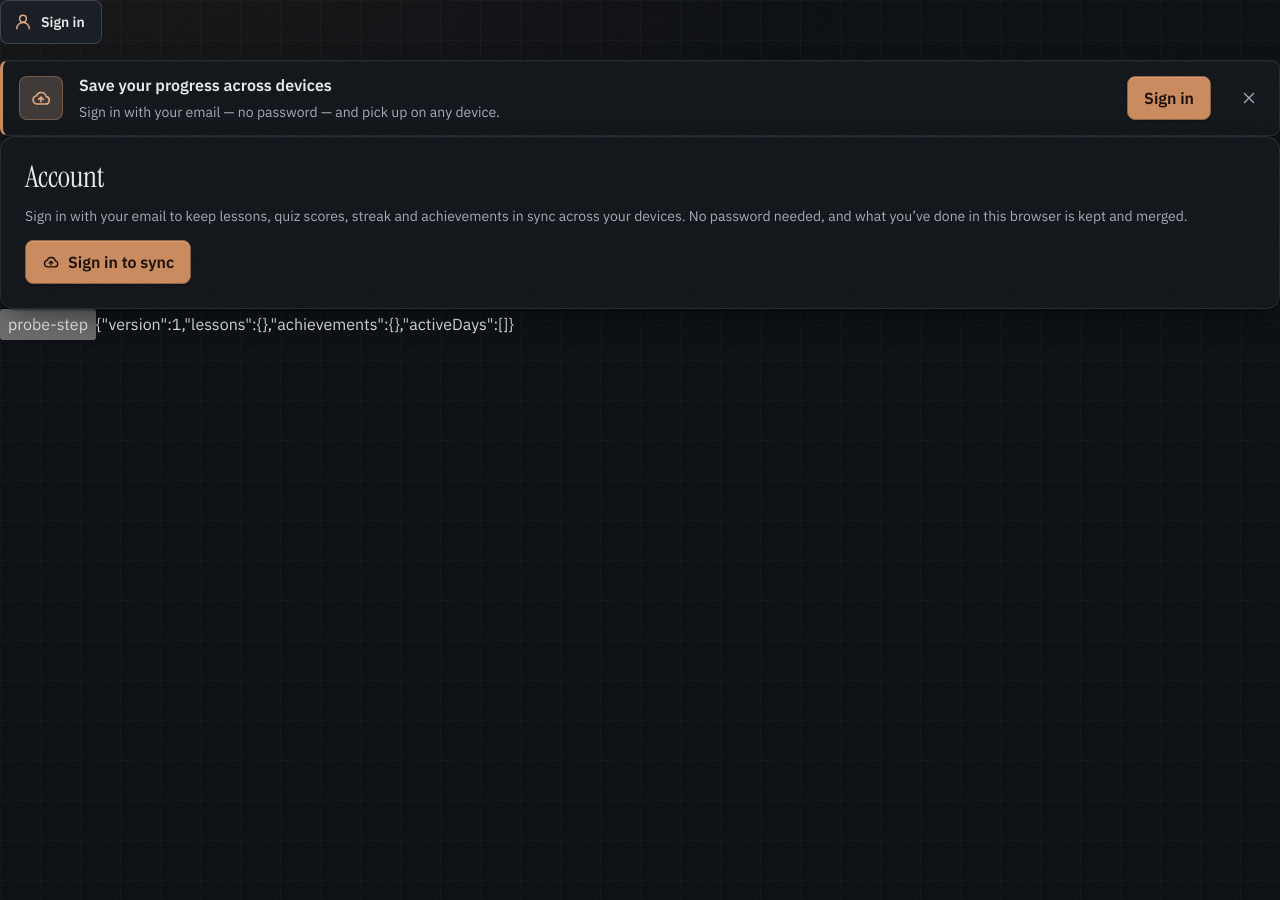
it: accounts › explains a failed send kindly ({"status":429,"code":"over_email_send_rate_limit","message":"rate"})
Click the 1st button "Sign in": (51, 22) [0, 0, 102, 44]
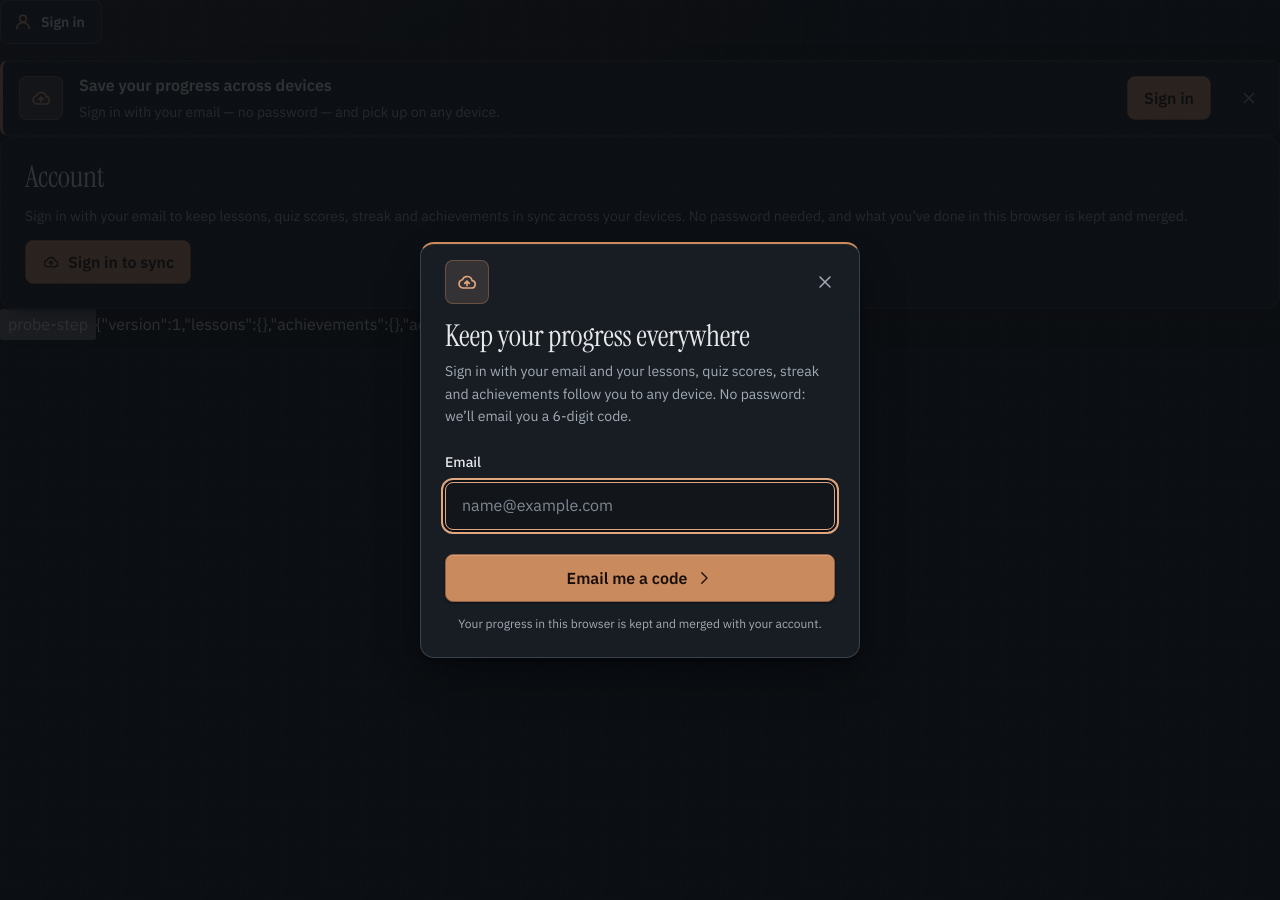
In the field labelled "Email": (640, 506) [445, 482, 835, 530], type "ada@example.com"
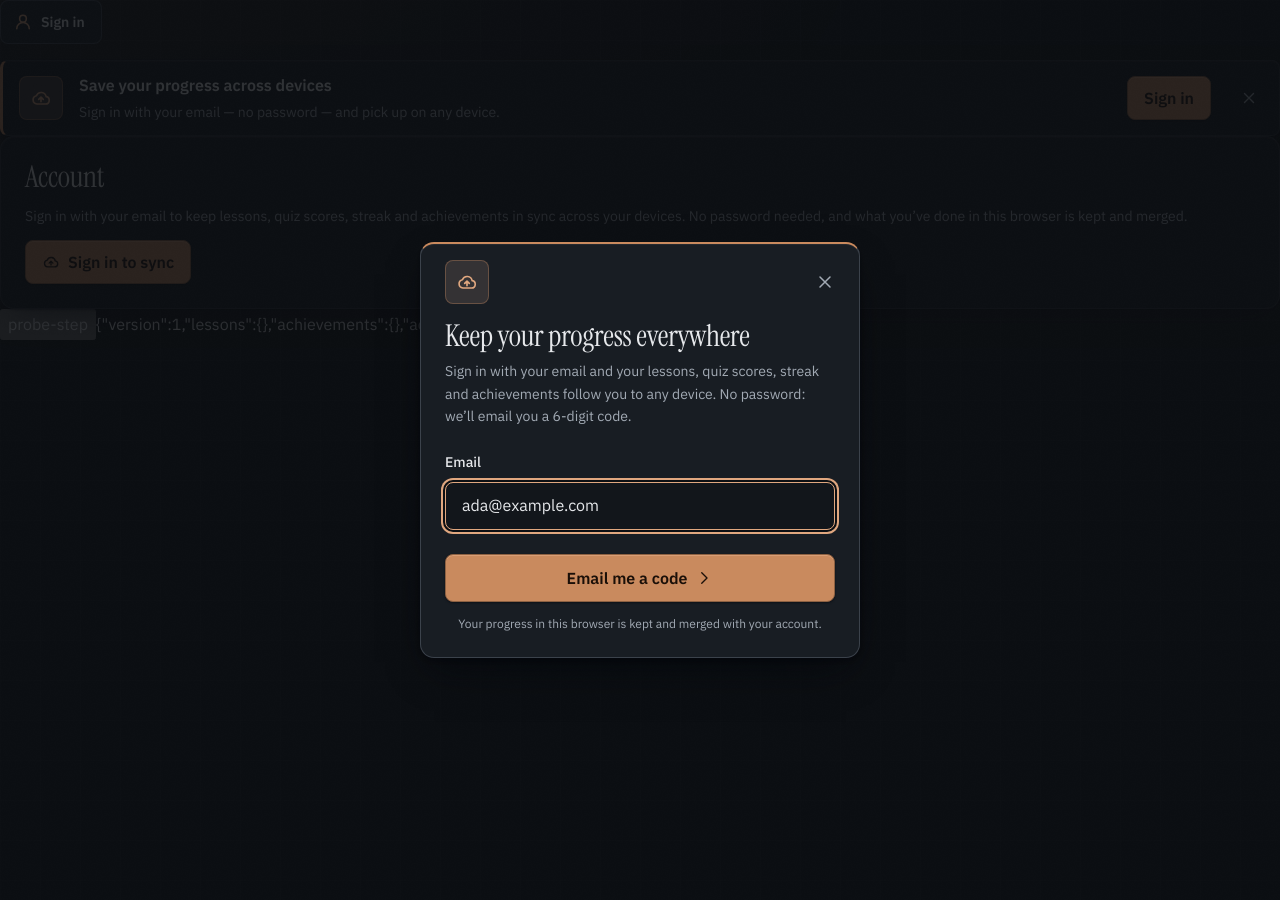
Click the button "Email me a code": (640, 578) [445, 554, 835, 602]
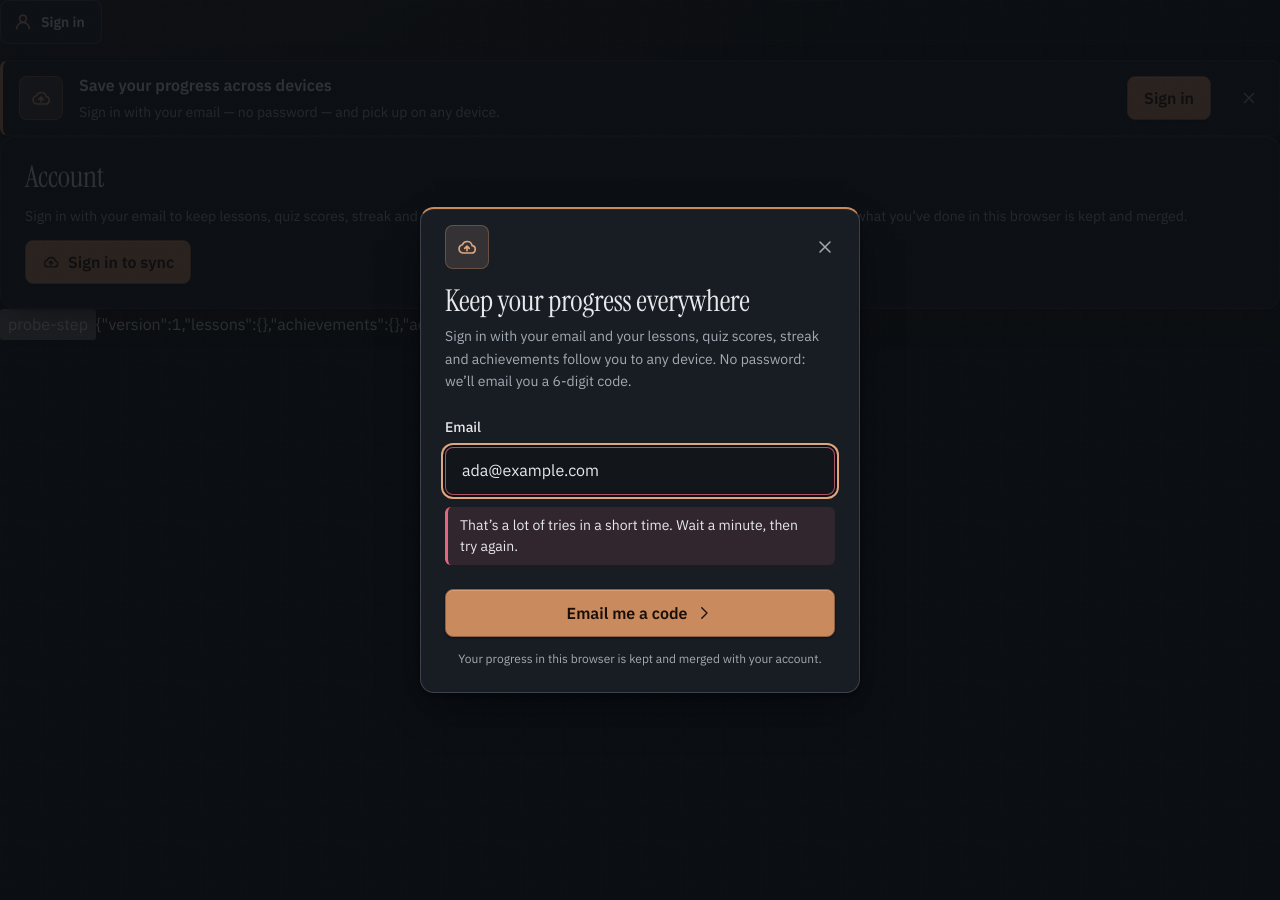
Result: the heading "Keep your progress everywhere" is shown at [445, 281, 750, 320]
Result: the message shows "a lot of tries" at [460, 516, 798, 555]
